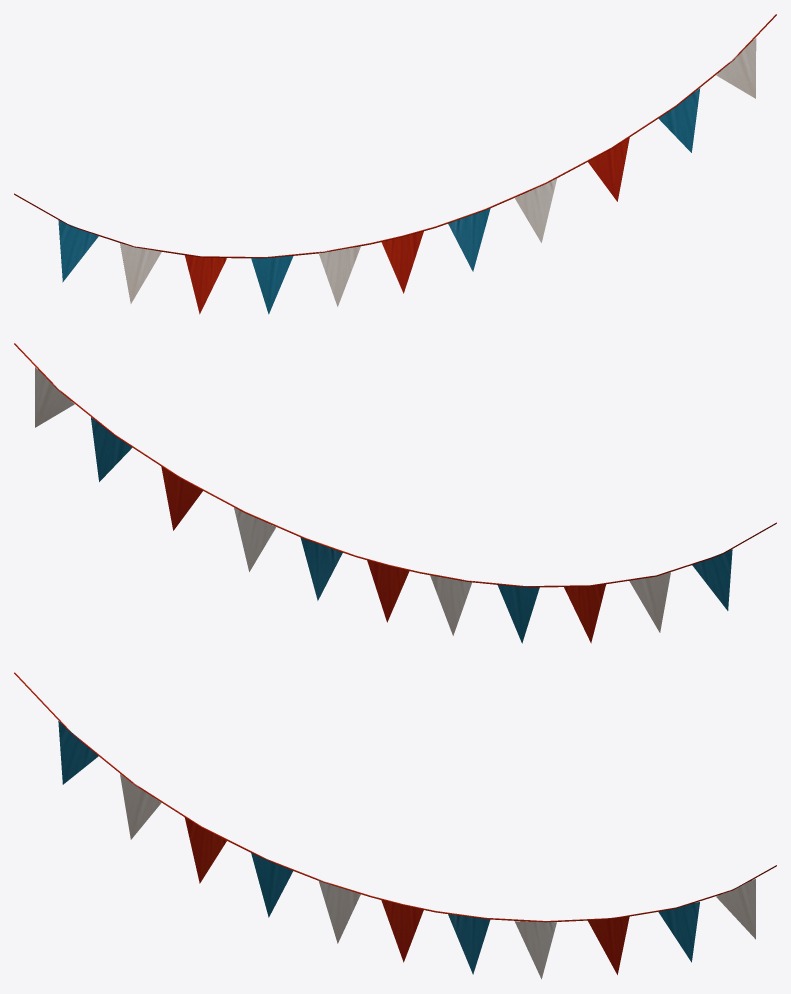
Rendered from Flags 2.FBX.
The picture shows the model from 3 angles, top to bottom: view 1: azimuth 30°, elevation 25°; view 2: azimuth 150°, elevation 25°; view 3: azimuth 330°, elevation 25°; orthographic projection.
Visible parts, largest first — view 1: Flags 2; view 2: Flags 2; view 3: Flags 2.
Part boxes in pixels (left/top/right/bottom): Flags 2: left=14, top=14, right=776, bottom=314; Flags 2: left=14, top=343, right=776, bottom=643; Flags 2: left=14, top=672, right=776, bottom=979.
Bounding box in the file's own units: 256 × 62.6 × 0.4541.
